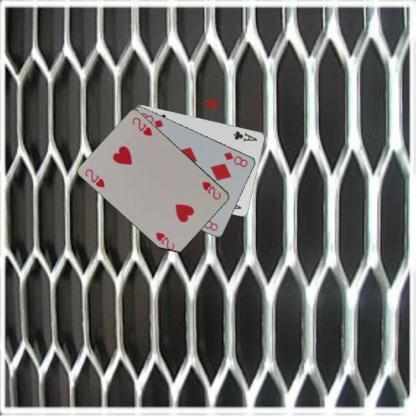2h: (199, 178, 222, 202), (82, 166, 106, 189)
8d: (221, 149, 249, 168)
Ac: (231, 128, 258, 143)
